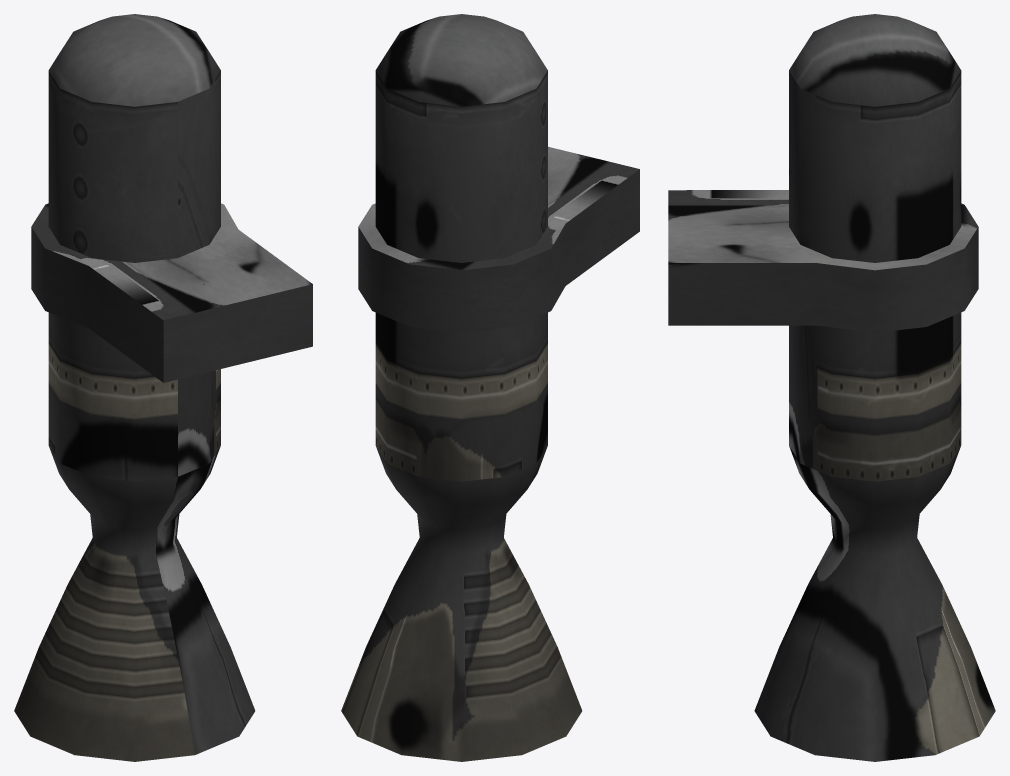
Rendered from nesting_jet.fbx.
3 renders of one model, left to right at view 1: azimuth 30°, elevation 25°; view 2: azimuth 150°, elevation 25°; view 3: azimuth 270°, elevation 25°, orthographic.
Visible parts, largest first — view 1: mesh; view 2: mesh; view 3: mesh.
Part boxes in pixels (box(x1,y1,x2,y2)): mesh: box(14, 14, 312, 761); mesh: box(341, 14, 639, 761); mesh: box(668, 14, 995, 761).
Bounding box in the file's own units: 0.0875 × 0.275 × 0.1187.
